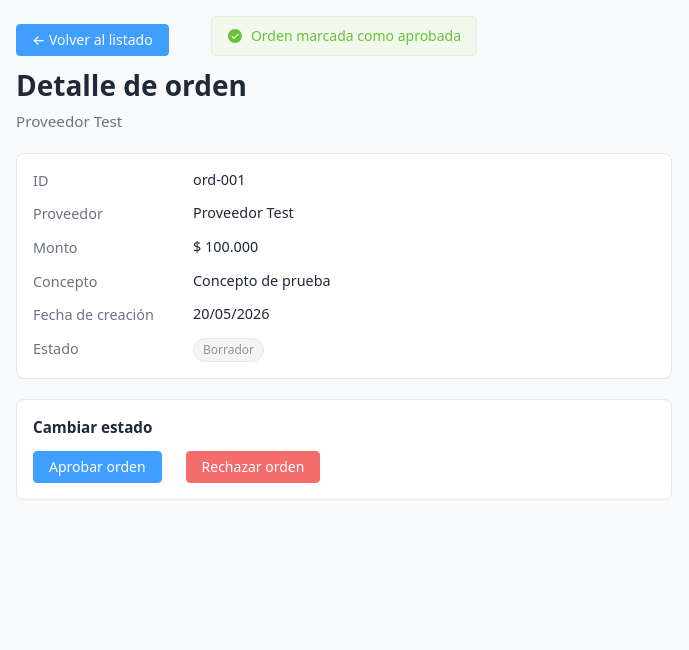
OrderDetailView › muestra error y mantiene el estado si falla la API
The image size is (689, 650).
What coordinates should you click on to do the following:
click the button "Aprobar orden"
I would click on:
 (97, 467)
Its box is [33, 451, 162, 483].
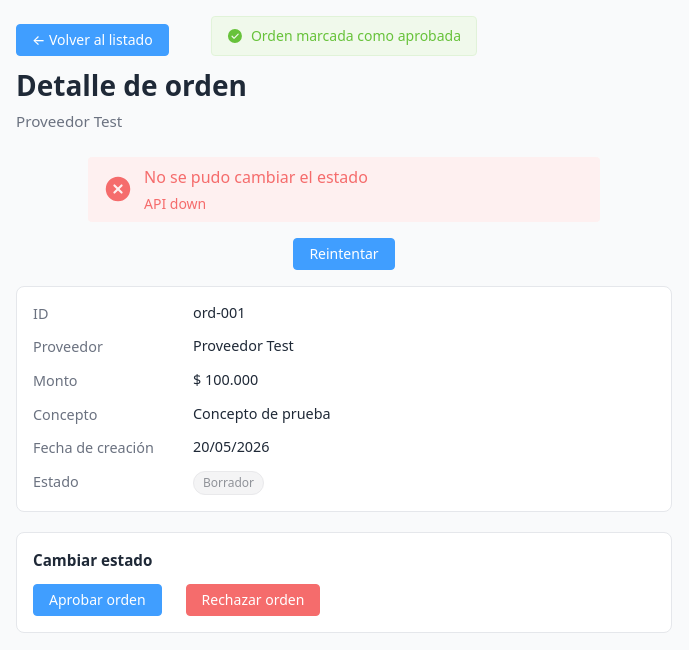
Check: the text "No se pudo cambiar el estado" is shown, box [144, 165, 368, 189]
Check: the text "API down" is shown, box [144, 194, 206, 213]
Check: the message "No se pudo cambiar el estado API down" is shown, box [88, 157, 600, 222]
